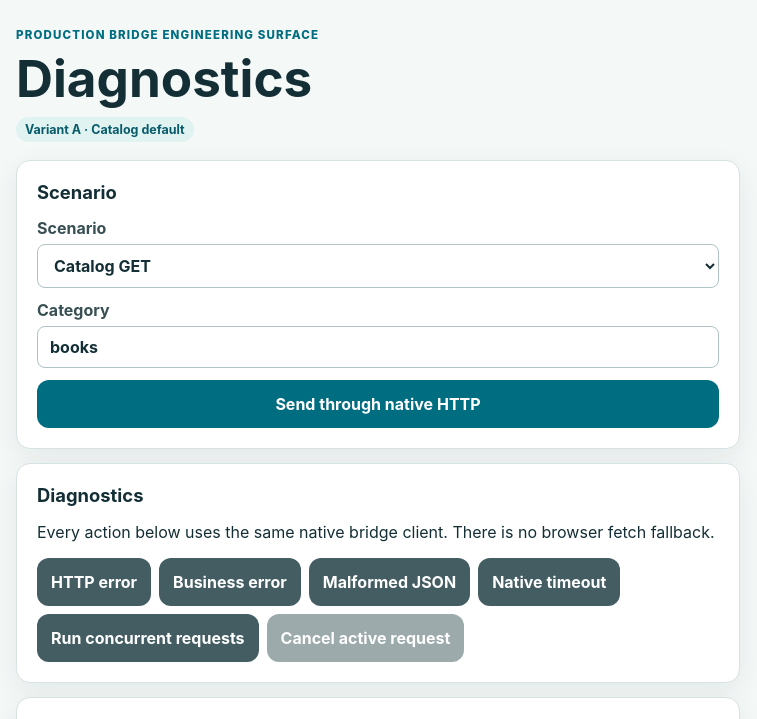
Scenario: opt-in TechnicalPanel with explicitly mocked native boundary › retains the Business error diagnostic category
Click the button "Business error": (230, 582) left=159, top=558, right=301, bottom=606
(page scrolled)
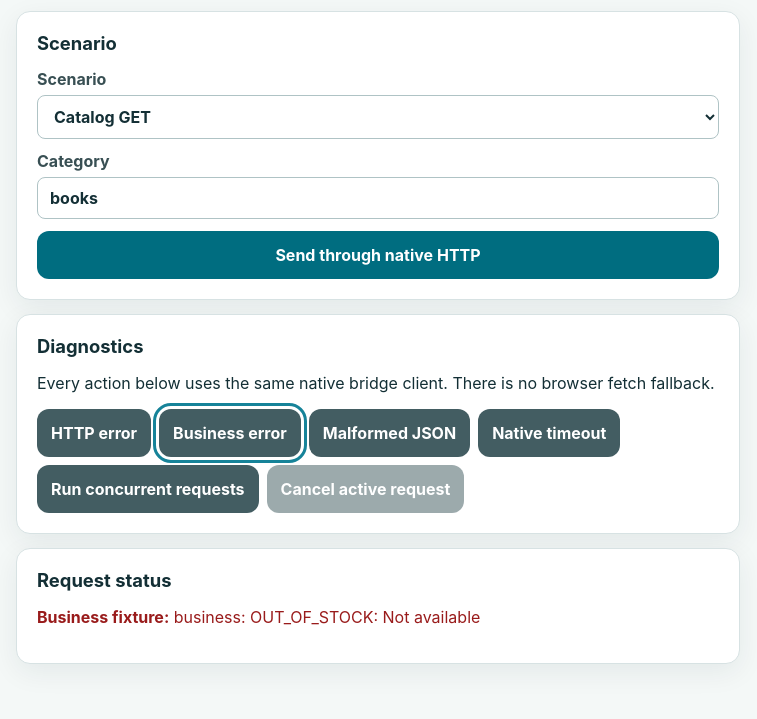
Now the message with test id "lab.error" shows "Business", box left=37, top=607, right=164, bottom=627
